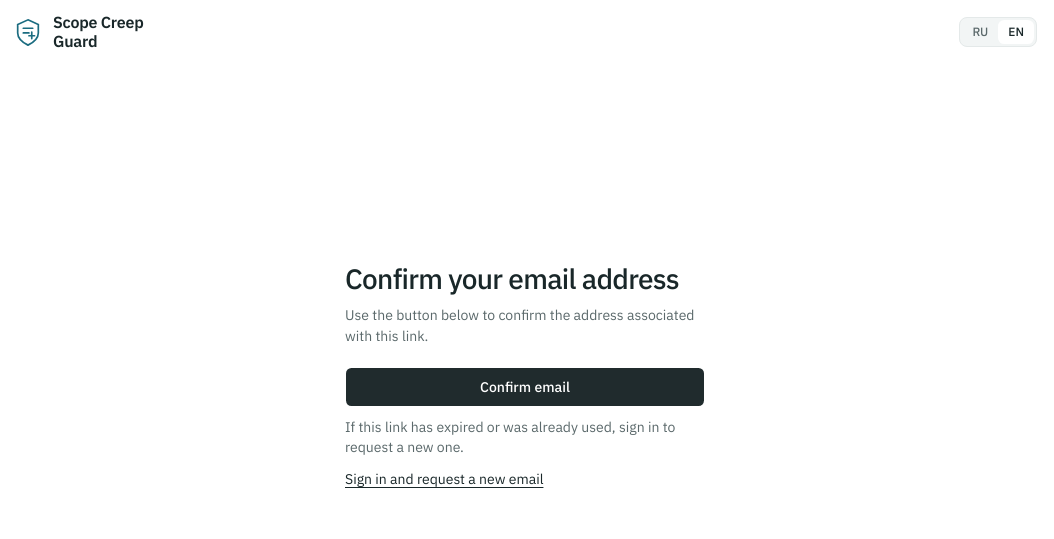
it: does not turn a rejected token into success for an authenticated browser
The width and height of the screenshot is (1054, 539).
Click the button "Confirm email". click: (525,387)
box: [345,367,705,407]
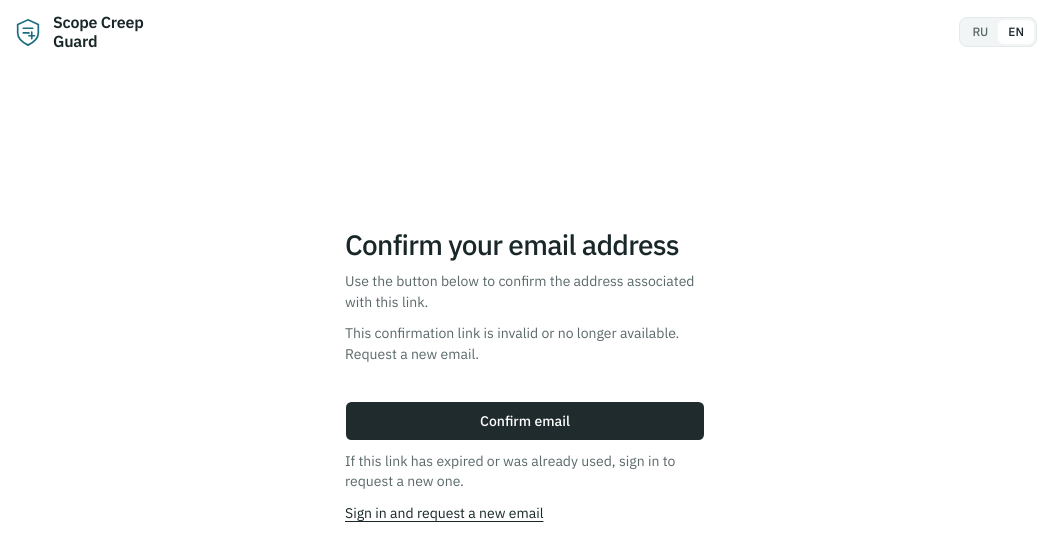
Expected: the message "This confirmation link is invalid or no longer available. Request a new email." is shown, [345,323,705,365]
